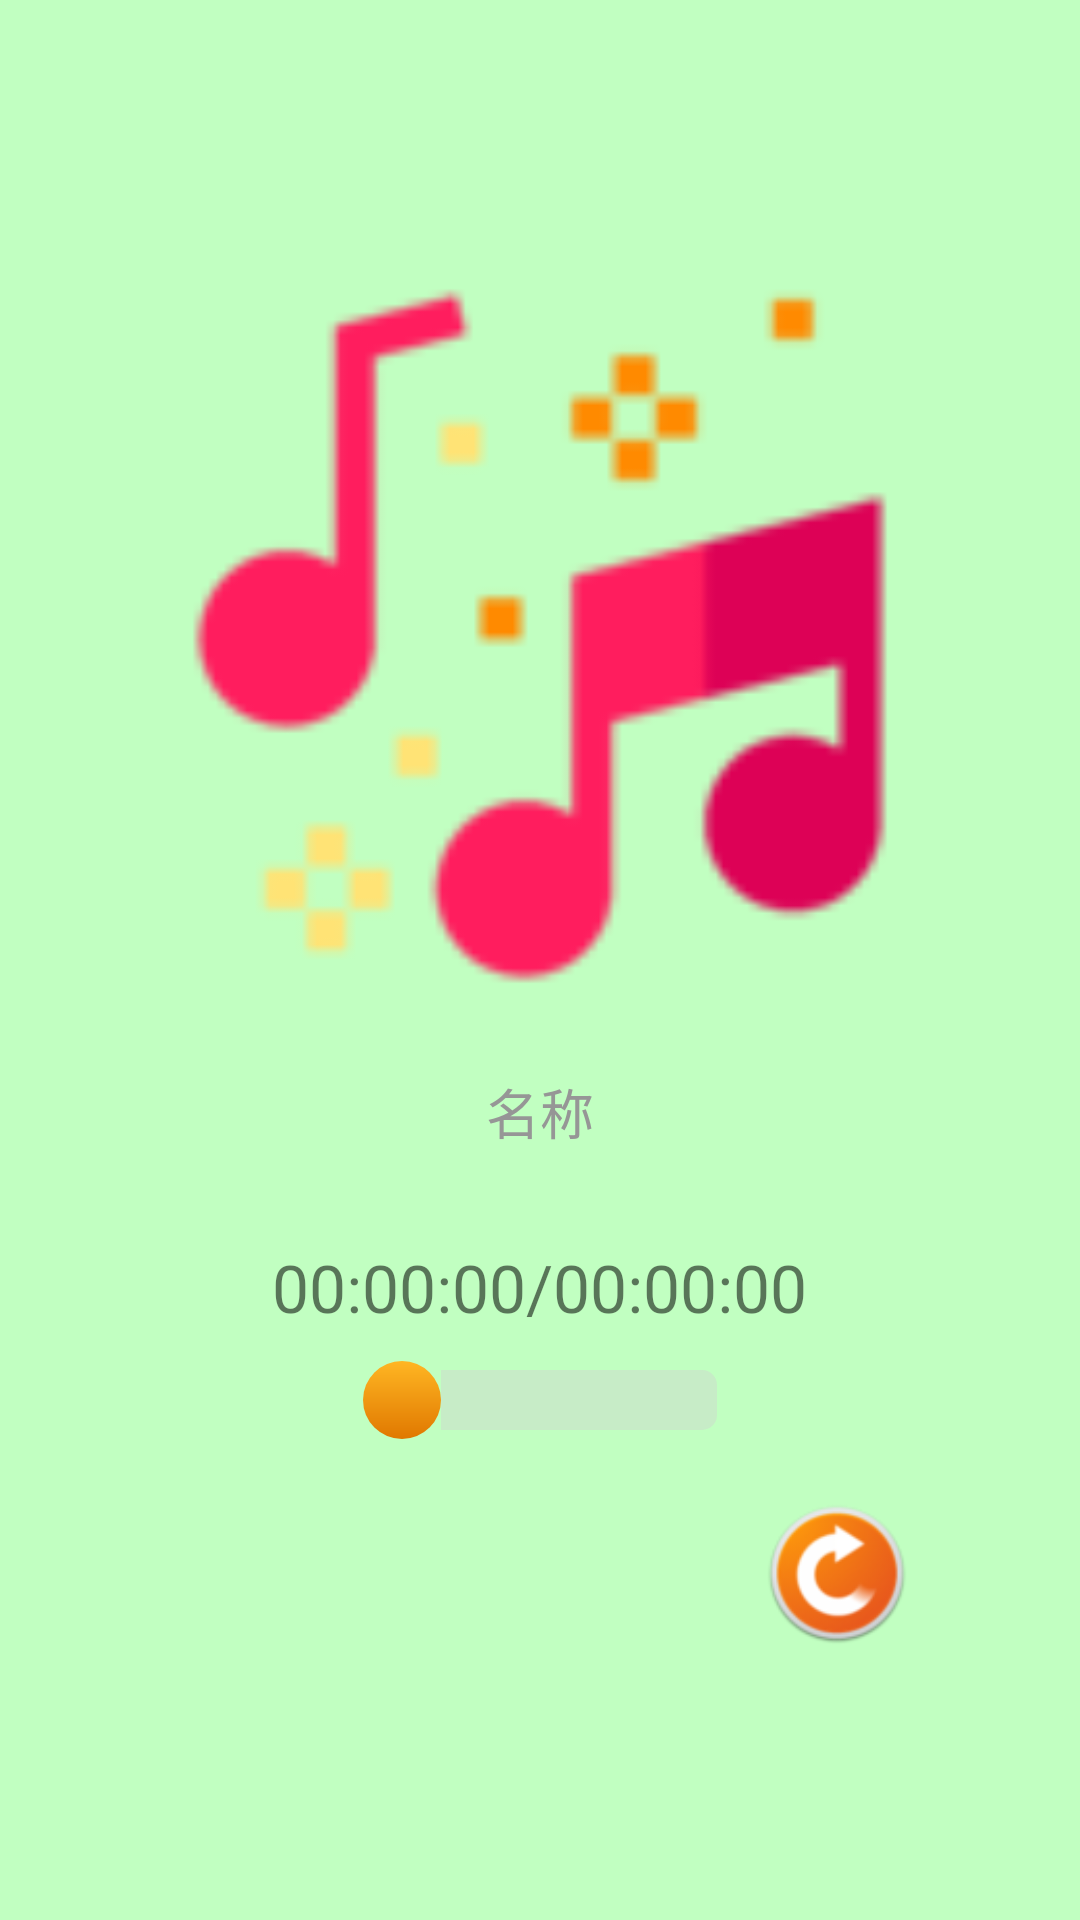

Icon click points for this 1080x1920 phone screenshot, format point (x, y):
repeat play: point (837, 1575)
